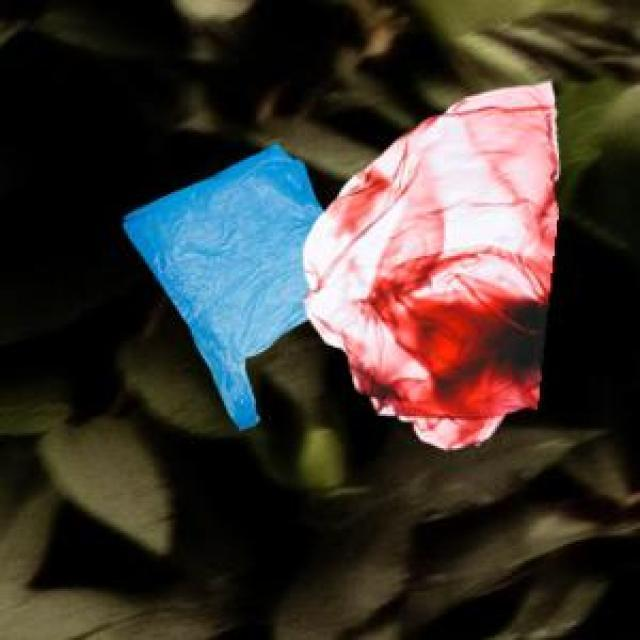Bolsa-de-nilon: (117, 144, 325, 435)
